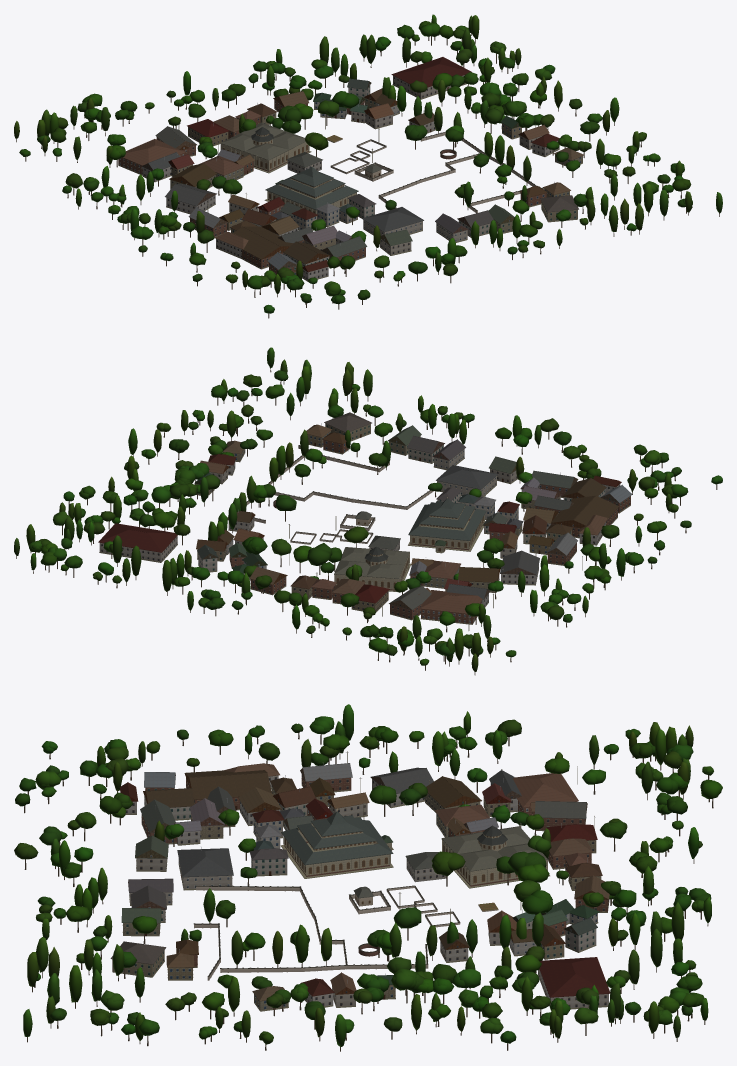
File: imambargah-hassanabad.glb
The picture shows the model from 3 angles, top to bottom: view 1: azimuth 30°, elevation 25°; view 2: azimuth 150°, elevation 25°; view 3: azimuth 270°, elevation 25°; orthographic projection. The views are drawn at different scales.
Parts seen in each view (by area): view 1: web Trees, web Houses, web Landmarks; view 2: web Trees, web Houses, web Landmarks; view 3: web Trees, web Houses, web Landmarks.
Part boxes in pixels (x1,y1,x2,y2): web Trees: (14,14,722,318); web Houses: (118,57,583,281); web Landmarks: (220,122,544,213); web Trees: (14,347,722,675); web Houses: (98,412,632,624); web Landmarks: (246,445,486,591); web Trees: (14,704,722,1051); web Houses: (110,762,610,1011); web Landmarks: (193,808,549,980).
Bounding box in the file's own units: 315 × 22.67 × 296.
Materials: 30 (26 with a texture image).
